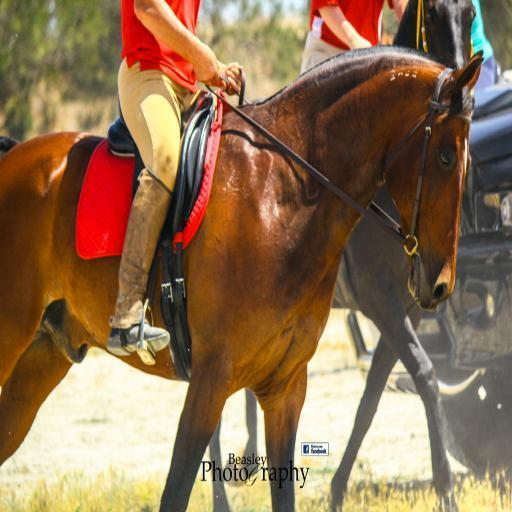horse: (208, 0, 478, 512)
